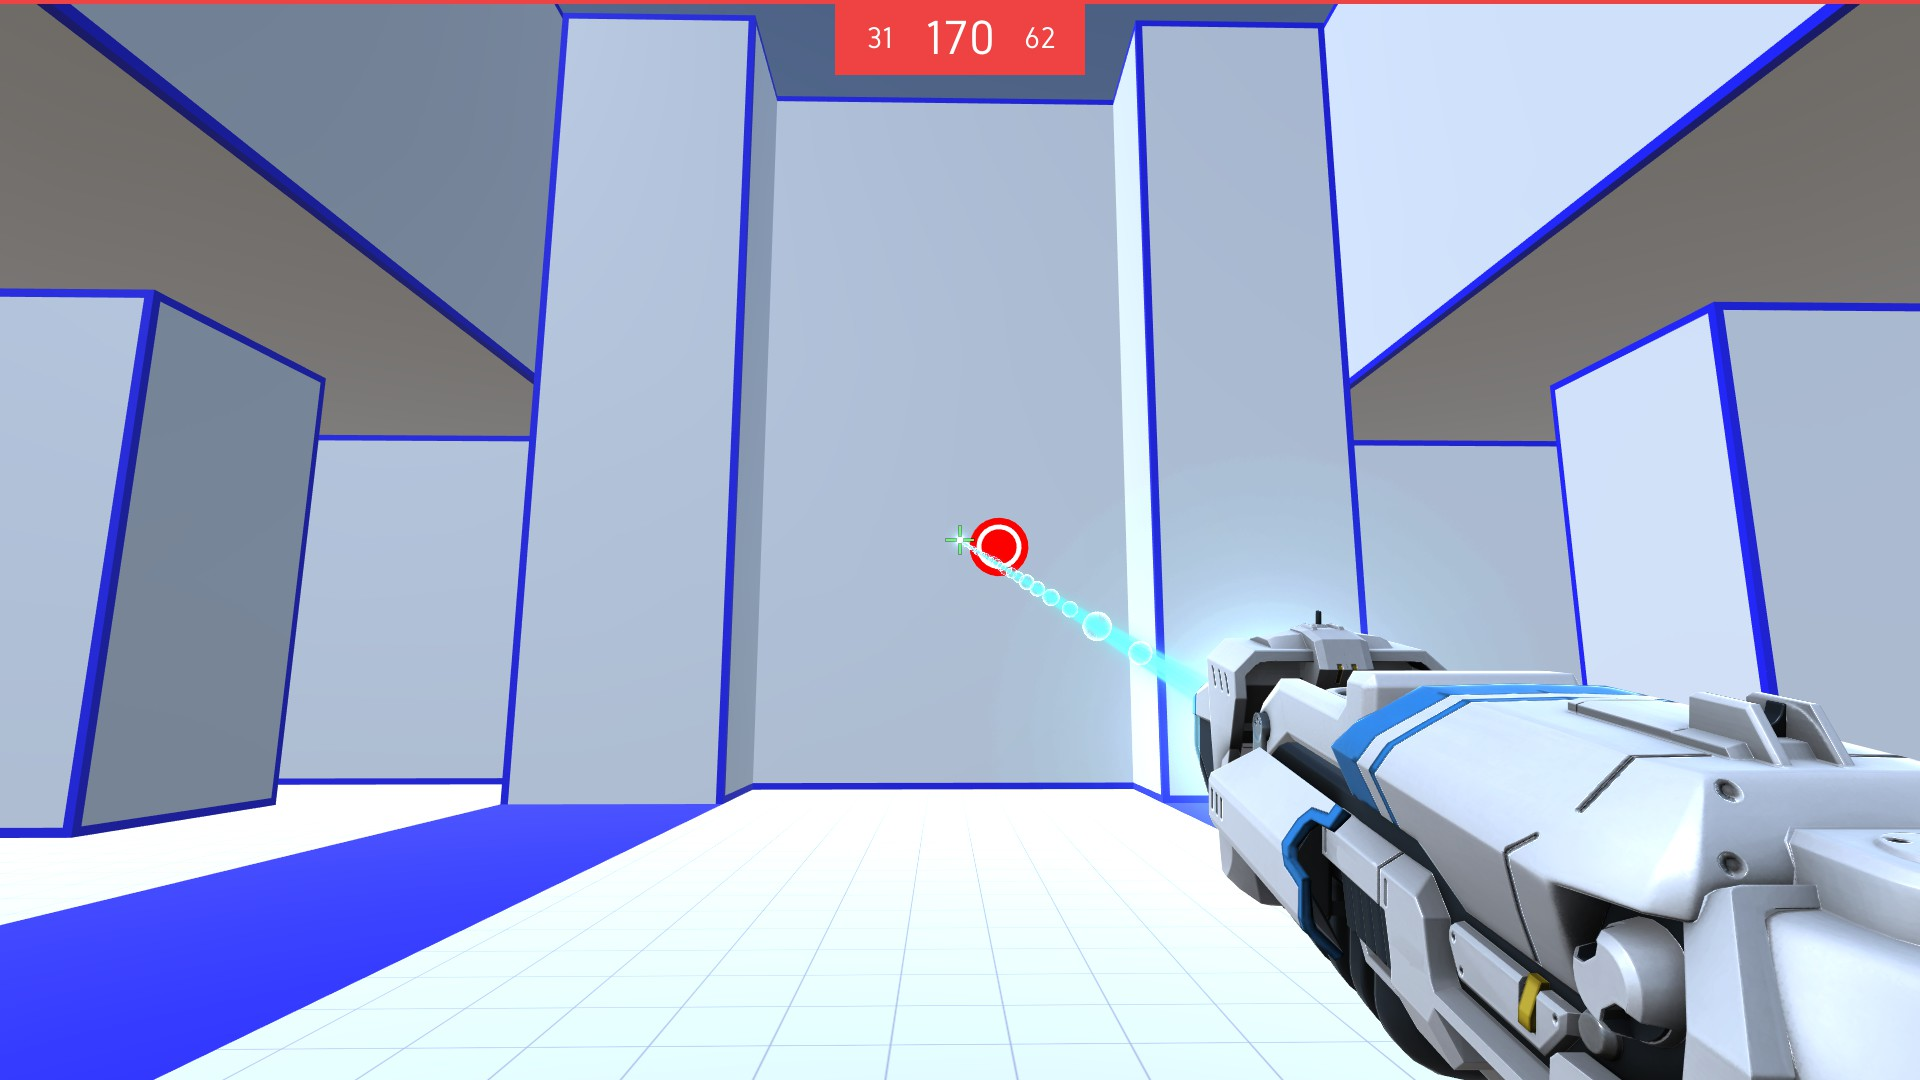target: (965, 516, 1033, 578)
